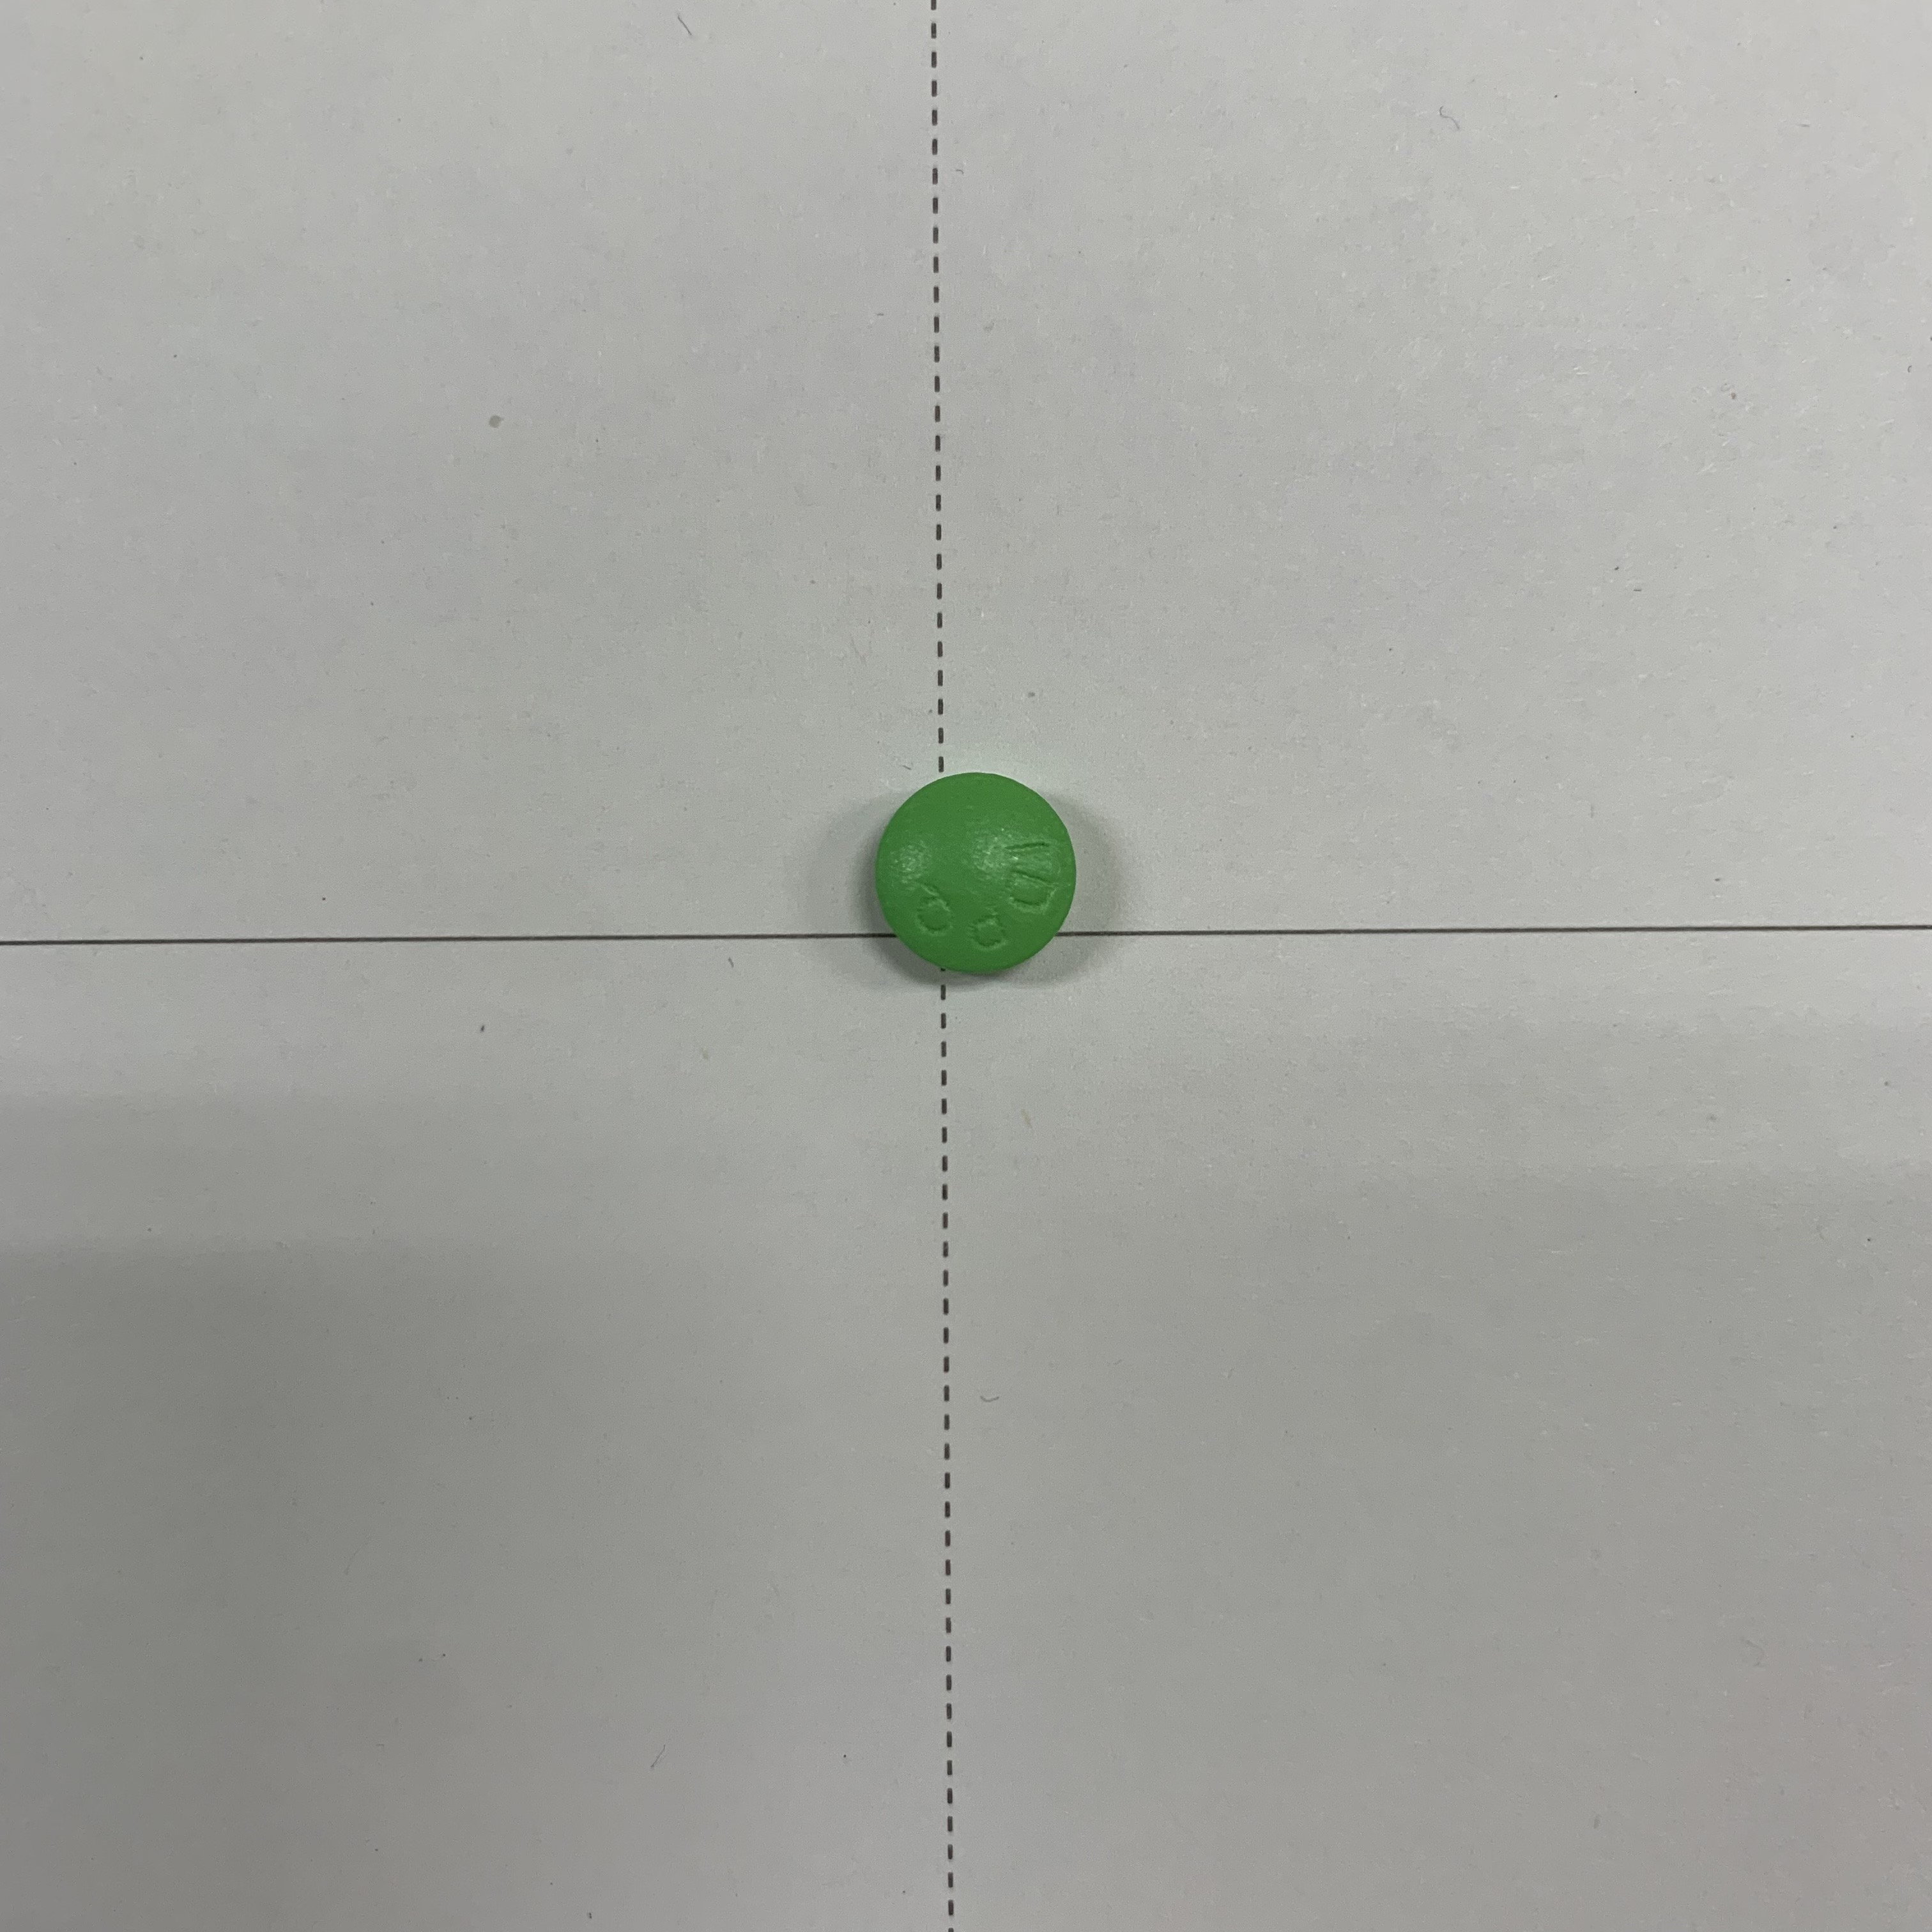cir_drug: (840, 757, 1109, 1003)
